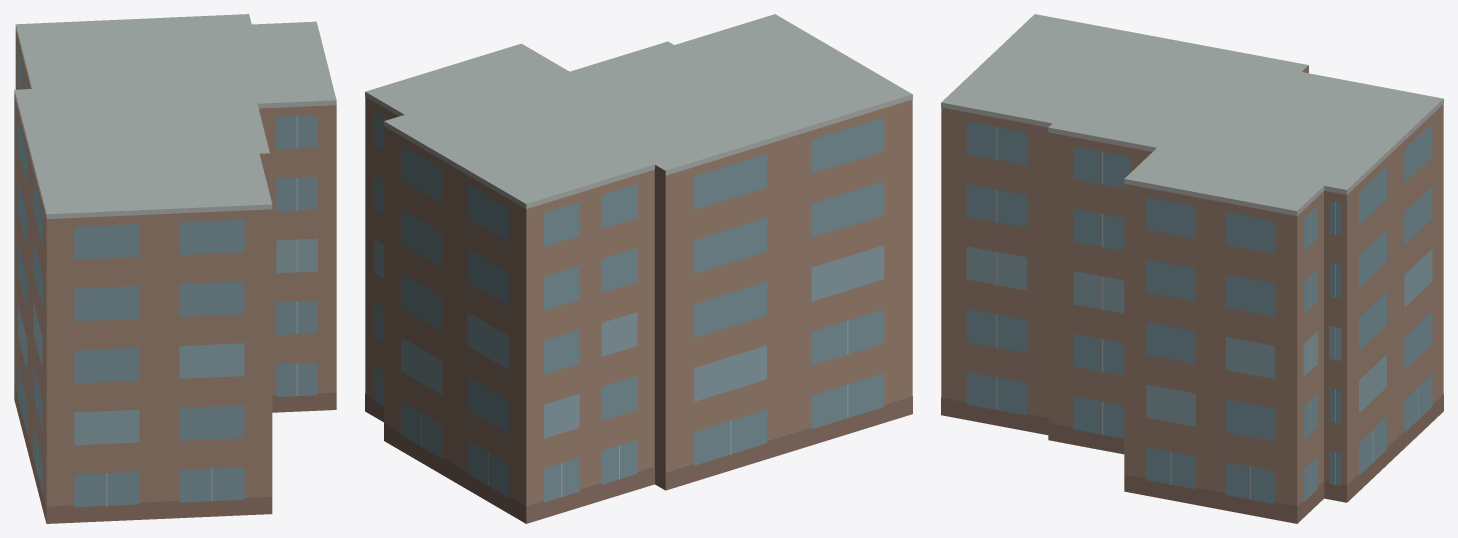
The model's file is survey-upis-33014546.glb.
The picture shows the model from 3 angles, left to right: view 1: azimuth 30°, elevation 25°; view 2: azimuth 150°, elevation 25°; view 3: azimuth 270°, elevation 25°; orthographic projection. The views are drawn at different scales.
Visible parts, largest first — view 1: survey-upis-33014546.tmp; view 2: survey-upis-33014546.tmp; view 3: survey-upis-33014546.tmp.
Part boxes in pixels (<box>): survey-upis-33014546.tmp: <box>14,14,336,523</box>; survey-upis-33014546.tmp: <box>365,14,912,523</box>; survey-upis-33014546.tmp: <box>941,14,1443,523</box>.
Bounding box in the file's own units: 20.98 × 15.5 × 22.59.
